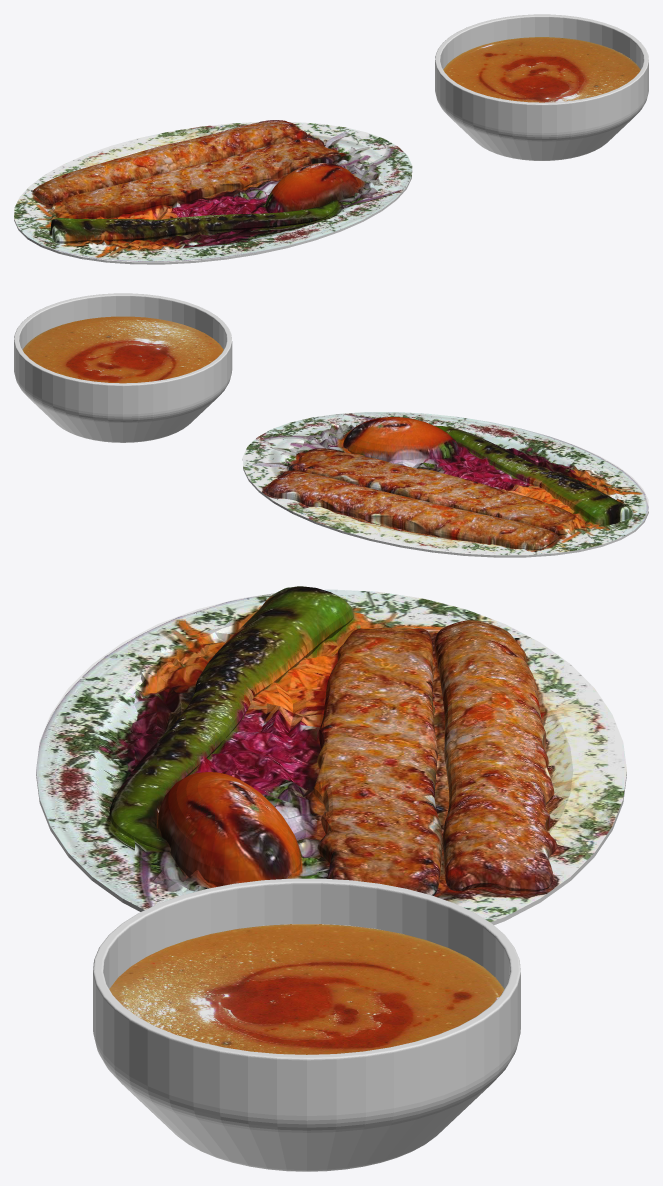
Rendered from Adana.obj.
3 views of the same model, one above another, from view 1: azimuth 30°, elevation 25°; view 2: azimuth 150°, elevation 25°; view 3: azimuth 270°, elevation 25° (orthographic). The views are drawn at different scales.
Visible parts, largest first — view 1: adana, tabak, corba; view 2: adana, tabak, corba; view 3: adana, tabak, corba.
Boxes of the visible parts, x1,y1,x2,y2 form: adana: (14, 120, 412, 264); tabak: (435, 14, 648, 160); corba: (443, 37, 640, 102); adana: (242, 412, 648, 557); tabak: (14, 293, 232, 442); corba: (22, 316, 223, 383); adana: (36, 586, 626, 924); tabak: (93, 878, 520, 1171); corba: (109, 924, 504, 1054).
Bounding box in the file's own units: 64.8 × 7.56 × 27.6.
3 materials, 2 textured.
